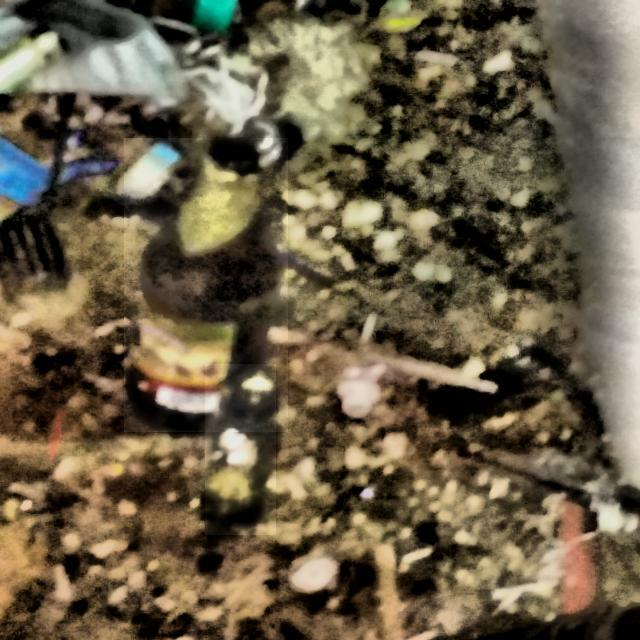anorganik: (124, 139, 288, 432), (205, 365, 275, 535)
